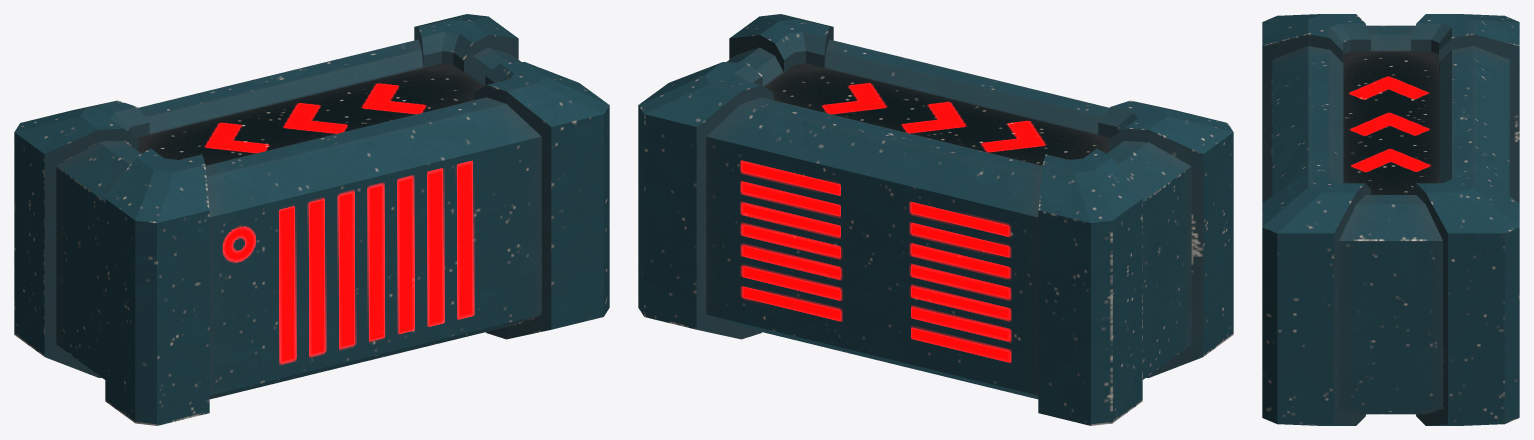
The model's file is box_big.glb.
The picture shows the model from 3 angles, left to right: view 1: azimuth 30°, elevation 25°; view 2: azimuth 150°, elevation 25°; view 3: azimuth 270°, elevation 25°; orthographic projection. The views are drawn at different scales.
Parts seen in each view (by area): view 1: BOX_005.001; view 2: BOX_005.001; view 3: BOX_005.001.
Boxes of the visible parts, left/top/right/bottom form: BOX_005.001: left=14, top=14, right=609, bottom=425; BOX_005.001: left=638, top=14, right=1233, bottom=425; BOX_005.001: left=1262, top=14, right=1519, bottom=425.
Size of what is drawn, in the model's own units: 2 by 1 by 1.
1 material, 1 textured.
